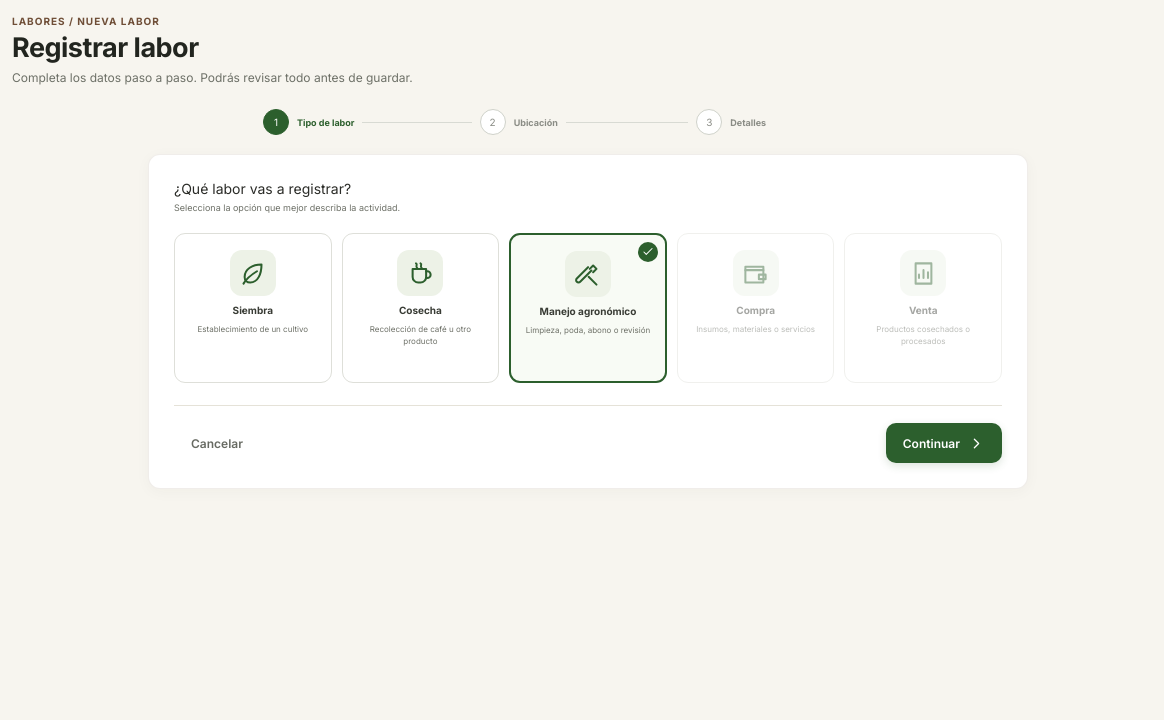
LaborWizard › muestra el error del backend y no da la labor por guardada
This screenshot has width=1164, height=720.
Click the radio button labelled "Siembra Establecimiento de un cultivo".
click(253, 308)  # box [174,233,332,383]
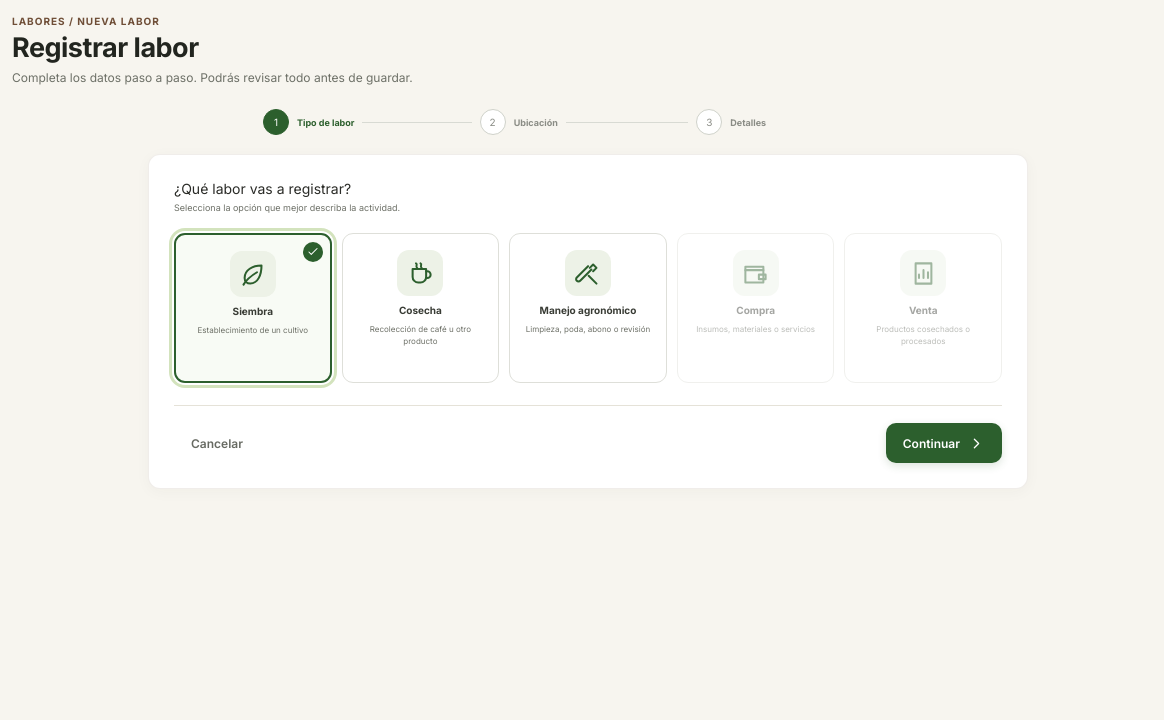
Click the button "Continuar".
click(944, 443)  # box [886,423,1002,463]
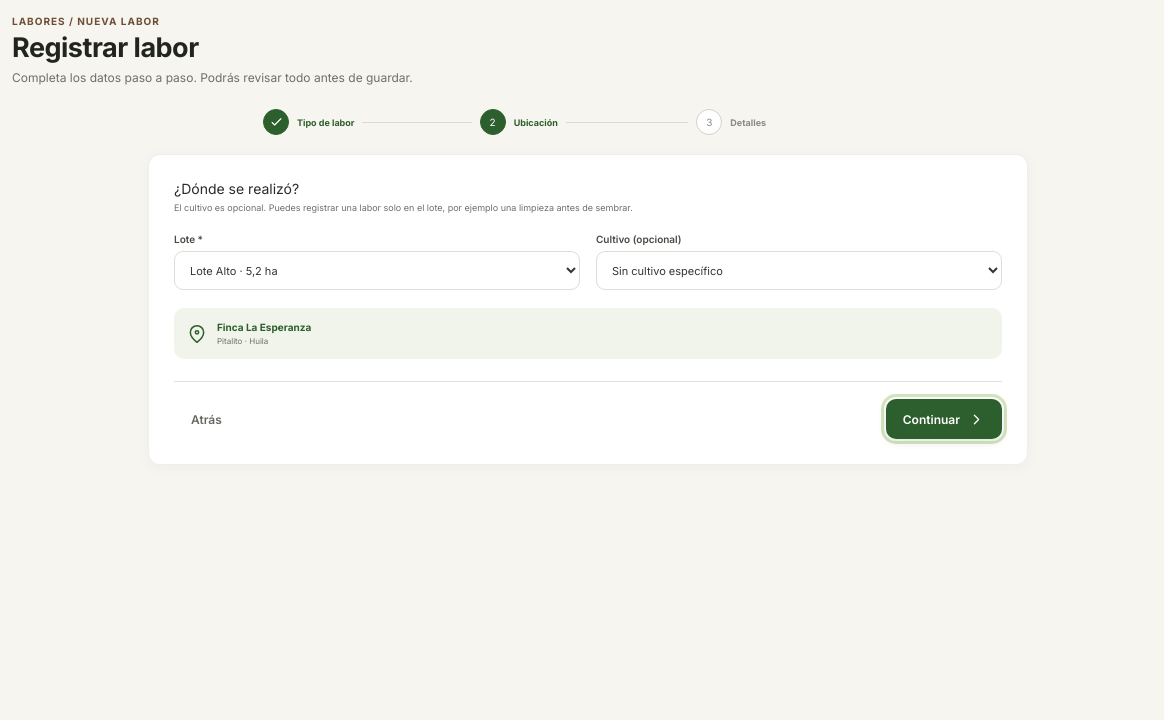
Click the button "Continuar".
click(944, 419)  # box [886,399,1002,439]
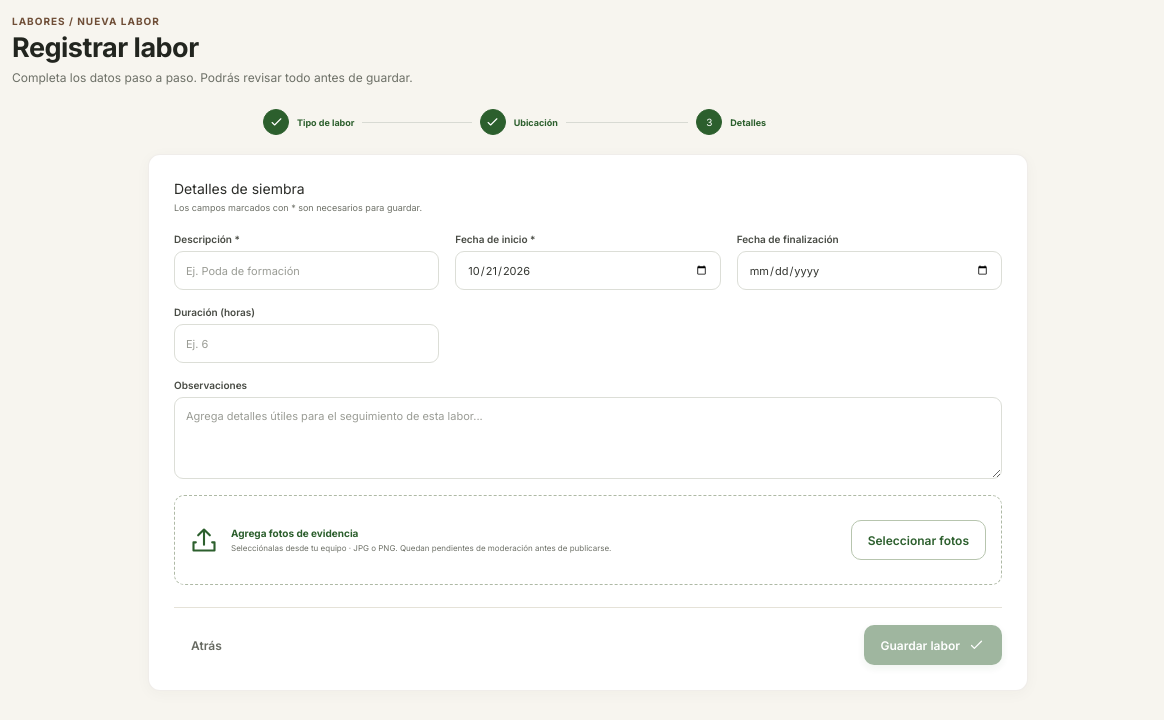
Type "Siembra de Castillo" into the field labelled "Descripción *".
click(307, 271); type("Siembra de Castillo")  # box [174,251,439,290]
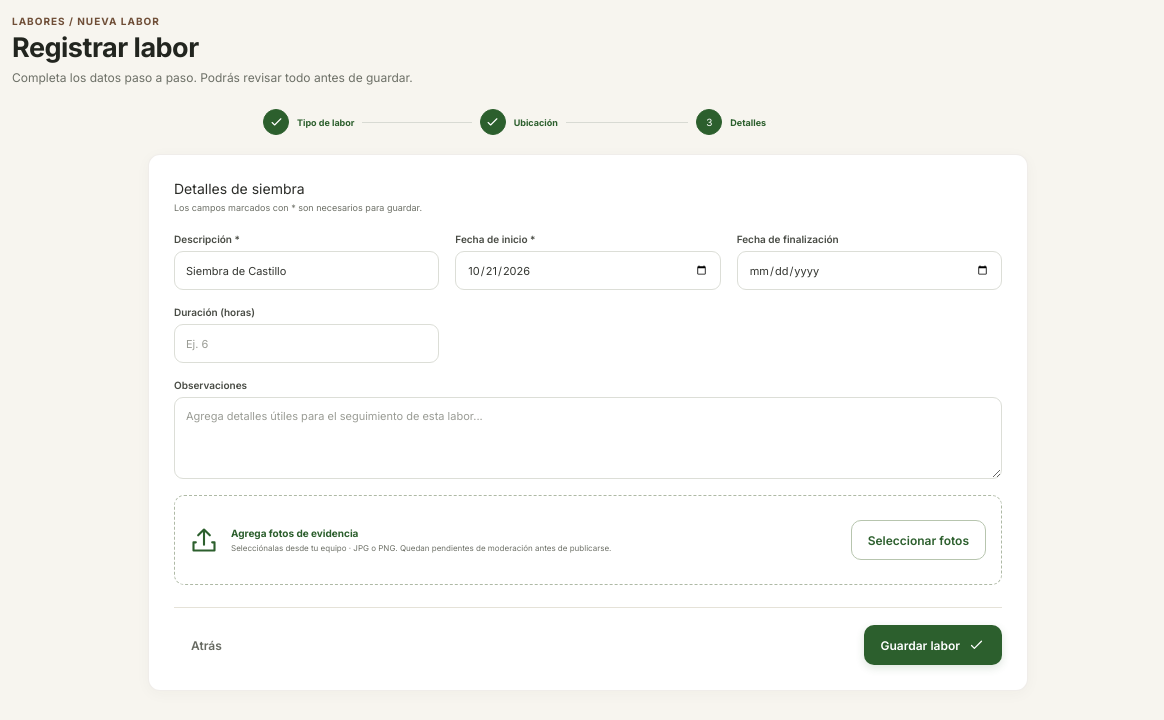
Click the button "Guardar labor".
click(933, 645)  # box [864,625,1002,665]
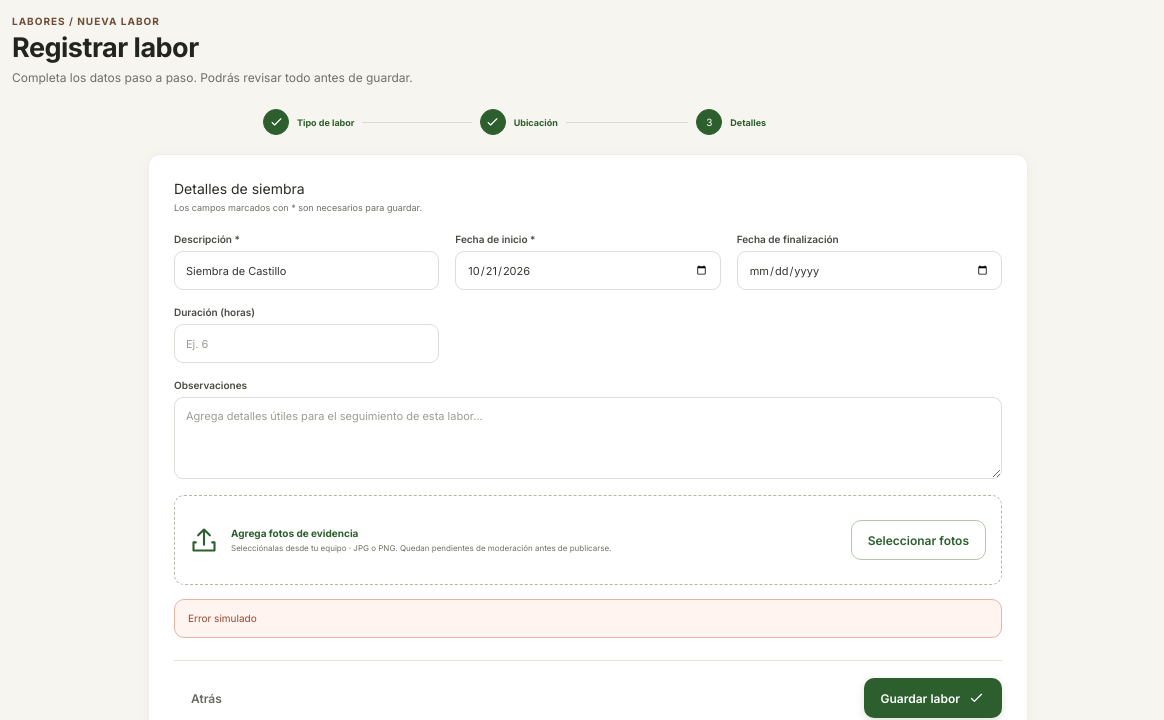
Now the message reads "Error simulado", box [188,612,257,624]
